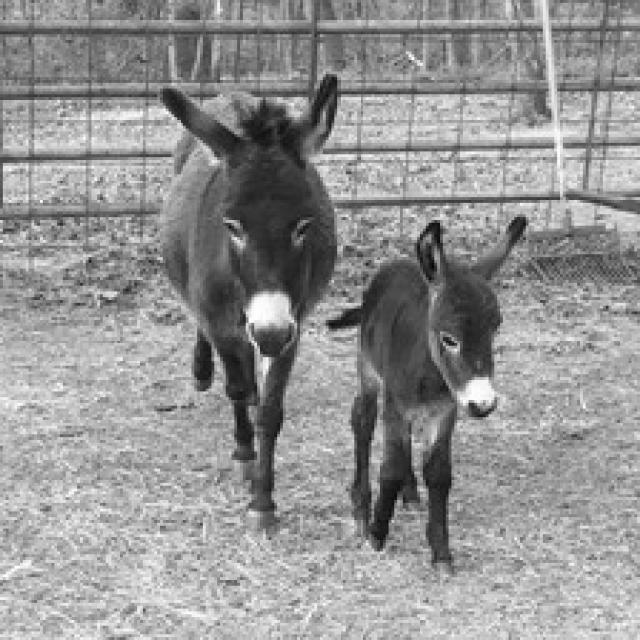Donkey: (154, 71, 340, 532), (323, 212, 528, 577)
